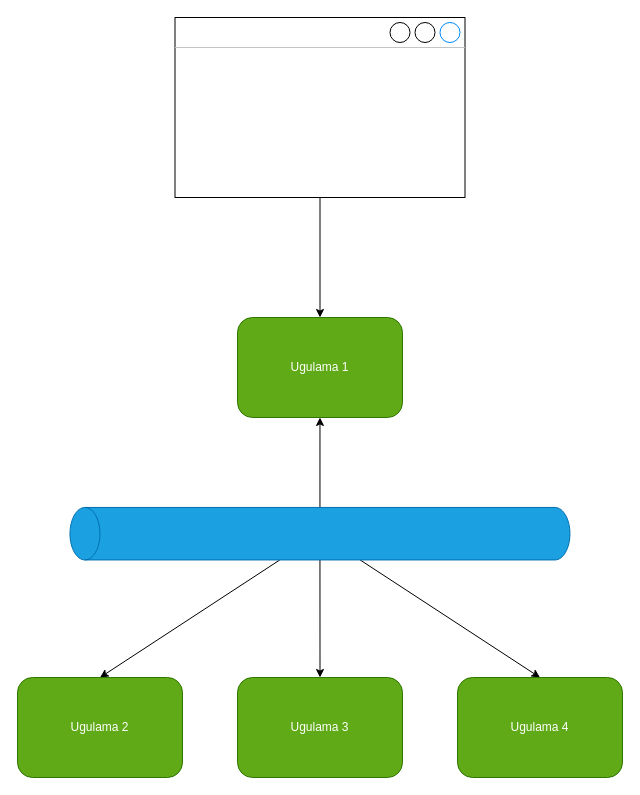
This 640x795 diagram has some shape labels left out. Here are the shapes that lost their labels. From the top down, the box of each, then its label:
(174, 16, 465, 198): Kullanıcı Arayüzü
(69, 506, 570, 560): Servis Listesi
